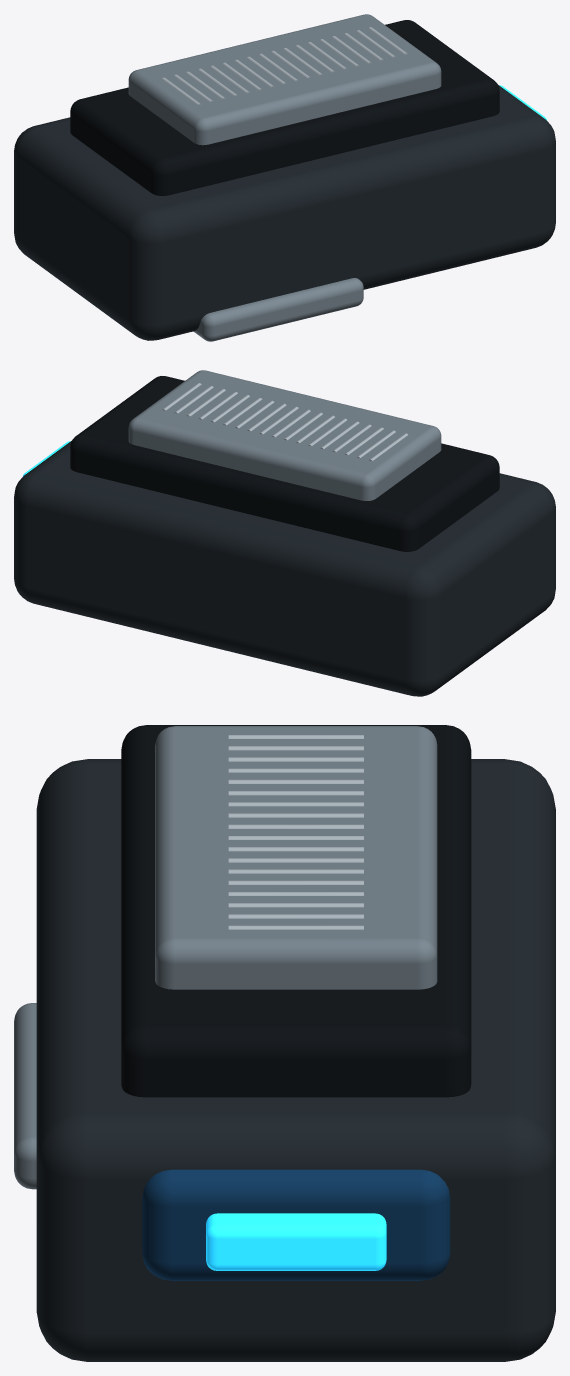
The model's file is printer-staple-kit.glb.
3 views of the same model, one above another, from view 1: azimuth 30°, elevation 25°; view 2: azimuth 150°, elevation 25°; view 3: azimuth 270°, elevation 25° (orthographic). The views are drawn at different scales.
Visible parts, largest first — view 1: Staple cartridge housing, Sliding cartridge cover, Staple magazine, Insertion rail, Professional printer finisher staple kit; view 2: Staple cartridge housing, Sliding cartridge cover, Staple magazine, Professional printer finisher staple kit; view 3: Staple cartridge housing, Staple magazine, Sliding cartridge cover, Release latch, Professional printer finisher staple kit, Latch indicator, Insertion rail.
Boxes of the visible parts, x1,y1,x2,y2 form: Staple cartridge housing: [14, 85, 555, 340]; Sliding cartridge cover: [70, 20, 499, 195]; Staple magazine: [128, 14, 441, 145]; Insertion rail: [193, 278, 363, 341]; Professional printer finisher staple kit: [162, 27, 407, 105]; Staple cartridge housing: [14, 441, 555, 696]; Sliding cartridge cover: [70, 376, 499, 551]; Staple magazine: [128, 370, 441, 500]; Professional printer finisher staple kit: [162, 383, 407, 461]; Staple cartridge housing: [36, 759, 555, 1361]; Staple magazine: [155, 726, 437, 989]; Sliding cartridge cover: [121, 725, 471, 1097]; Release latch: [142, 1169, 450, 1280]; Professional printer finisher staple kit: [228, 735, 363, 929]; Latch indicator: [206, 1213, 386, 1270]; Insertion rail: [14, 1003, 36, 1189].
Size of the model in its own units: 1.75 by 0.699 by 0.96.
